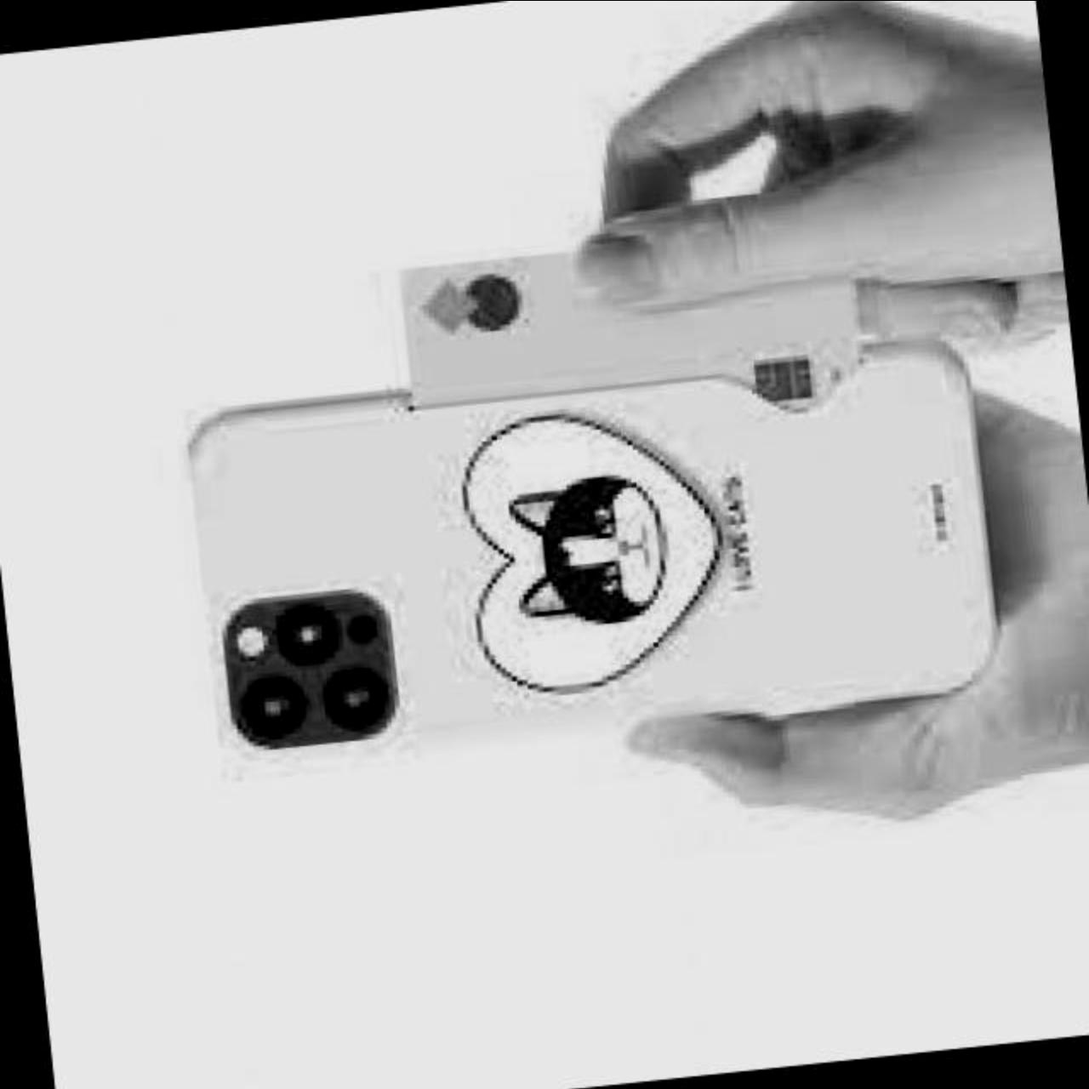phone: (185, 322, 993, 786)
